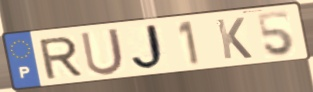1: (176, 18, 202, 66)
5: (254, 8, 297, 59)
J: (130, 22, 171, 73)
K: (214, 16, 255, 62)
R: (36, 34, 85, 81)
U: (78, 26, 127, 78)
